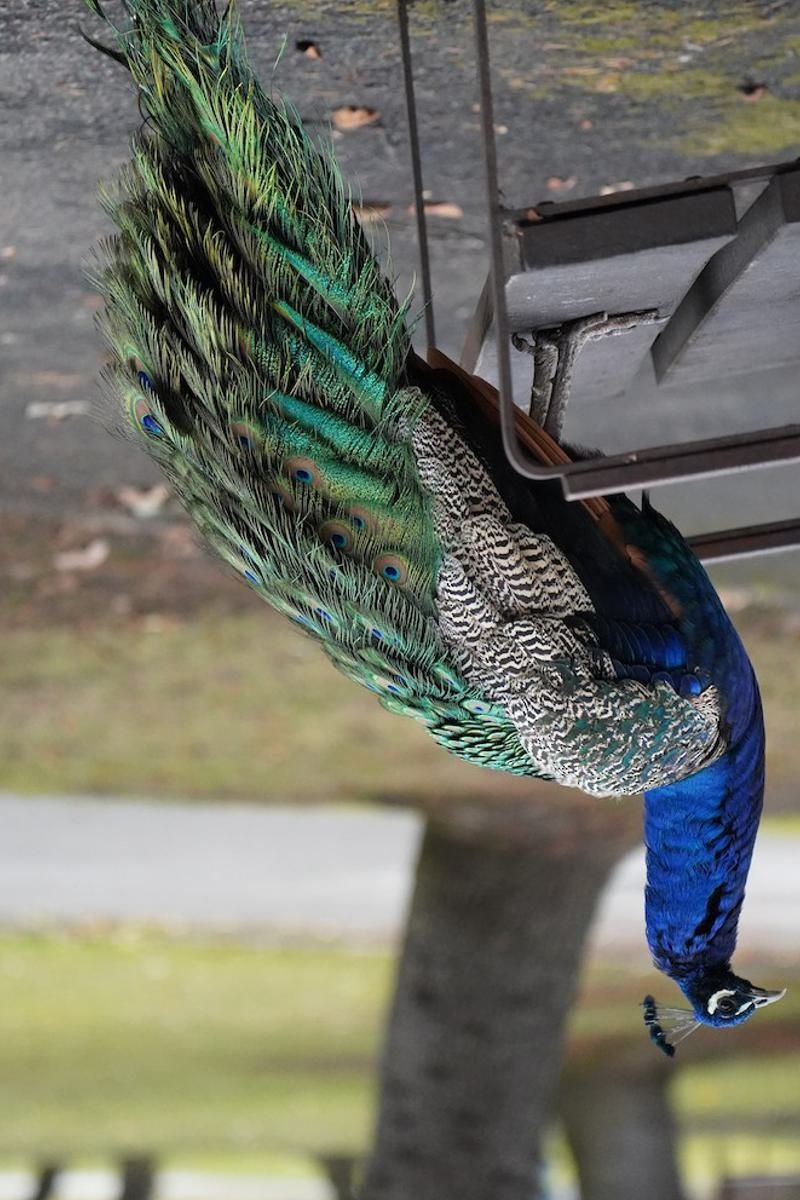peacock: (132, 70, 800, 1060)
